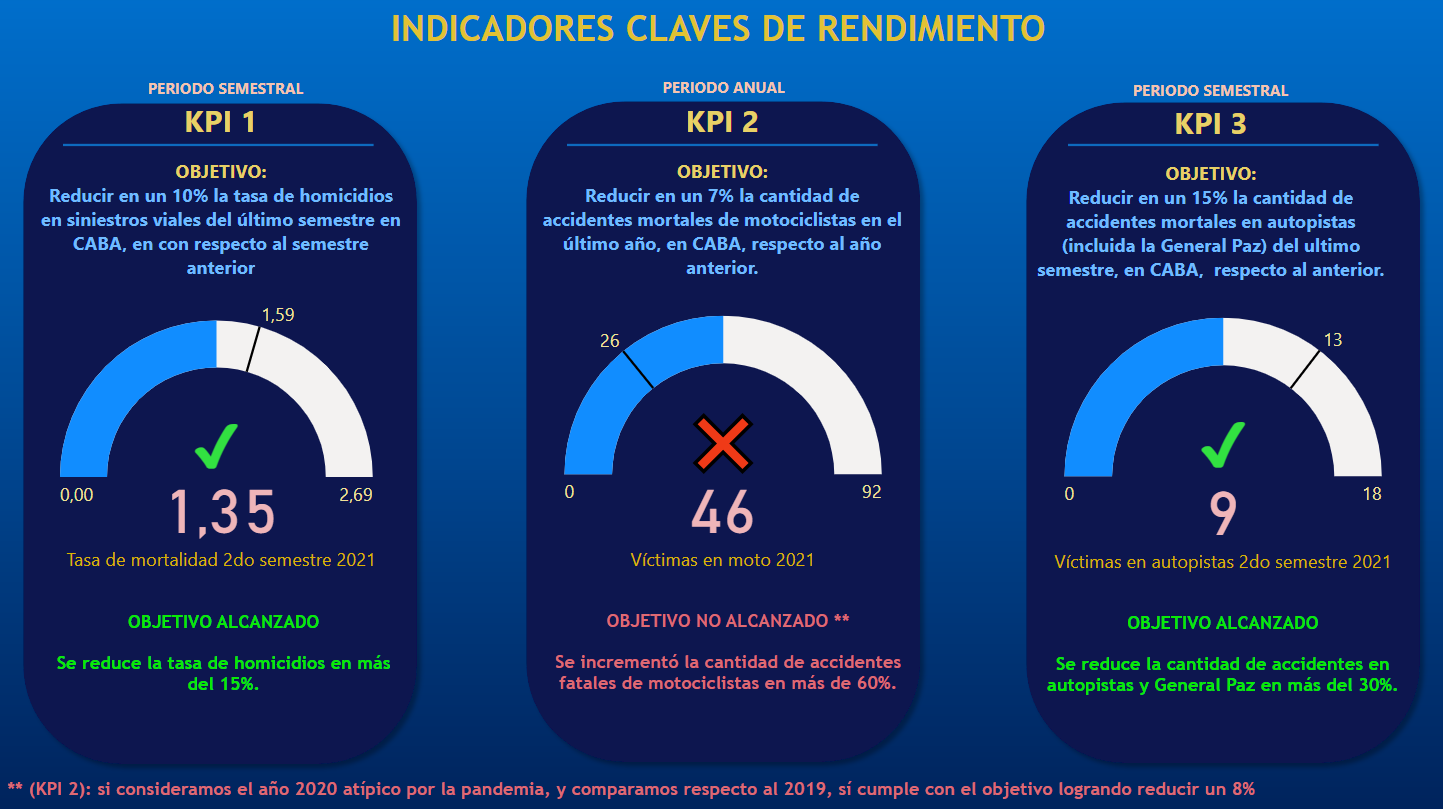

Layout of this report page (visuals, bound fields, positions):
{"tool":"powerbi","page":{"name":"KPIs","canvas":[1280,720],"ordinal":3},"visuals":[{"type":"gauge","title":"KPI 1","fields":{"Y":["Medidas.VictimasMoto2021"],"TargetValue":["Medidas.Objetivo"]},"box":[27.6,234.6,328.6,180.3],"z":0},{"type":"card","fields":{"Values":["Medidas.VictimasMoto2021"]},"box":[94.9,406.3,194.1,110.4],"z":1000},{"type":"gauge","title":"KPI 2","fields":{"TargetValue":["Medidas.ObjetivoMortalidad"],"Y":["Medidas.TasaSemestre22021"]},"box":[474.4,212.2,328.6,202.7],"z":2000},{"type":"card","fields":{"Values":["Medidas.TasaSemestre22021"]},"box":[495.1,406.3,288.9,110.4],"z":3000},{"type":"textbox","box":[27.2,43,327.5,206.3],"z":4000},{"type":"textbox","box":[424.1,43,431.1,191.4],"z":5000},{"type":"gauge","title":"KPI 2","fields":{"Y":["Medidas.Autopistas2021"],"TargetValue":["Medidas.ObjetivoAutopistas"]},"box":[916,234.6,328.6,180.3],"z":6000},{"type":"textbox","box":[897,43.3,328.2,206],"z":7000},{"type":"card","fields":{"Values":["Medidas.Autopistas2021"]},"box":[916,406.3,328.6,110.4],"z":8000},{"type":"textbox","box":[481.3,552,316.5,100.1],"z":9000},{"type":"textbox","box":[27.6,552,337.3,76.8],"z":10000},{"type":"textbox","box":[916,540.8,328.6,100.1],"z":11000}]}

Visuals, with their boxes in screenshot pixels (x1, y1, x2, y2), scaled from the page's 1280x720 canvas onto the 1443x809 screenshot:
"KPI 1" gauge: 31/264/402/466
card - Medidas.VictimasMoto2021: 107/457/326/581
"KPI 2" gauge: 535/238/905/466
card - Medidas.TasaSemestre22021: 558/457/884/581
textbox: 31/48/400/280
textbox: 478/48/964/263
"KPI 2" gauge: 1033/264/1403/466
textbox: 1011/49/1381/280
card - Medidas.Autopistas2021: 1033/457/1403/581
textbox: 543/620/899/733
textbox: 31/620/411/707
textbox: 1033/608/1403/720
